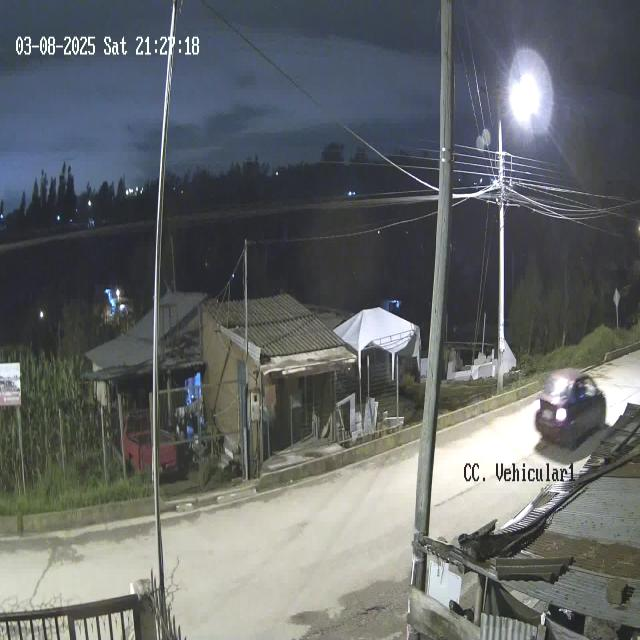SED: (533, 368, 607, 452)
